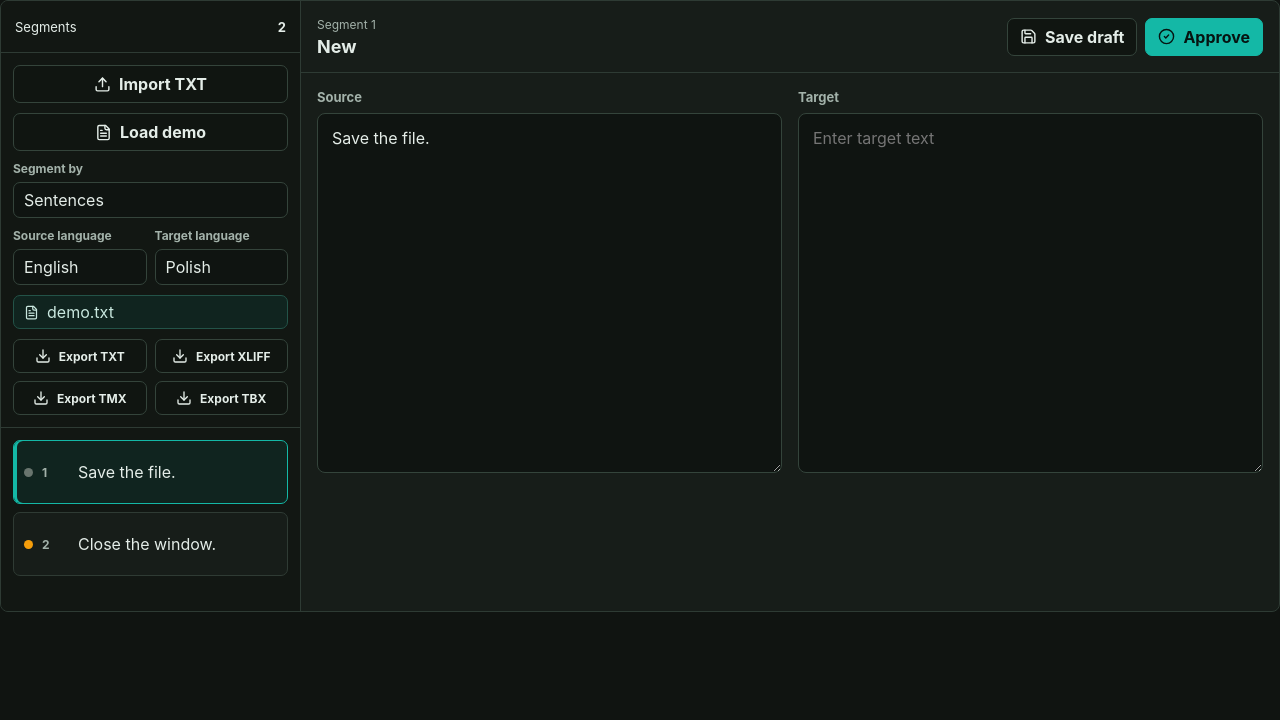
exports TXT after persisting the active segment draft
Type "Zapisz plik." into the text box labelled "Target".
click(1030, 293); type("Zapisz plik.")  # box [798, 113, 1263, 473]
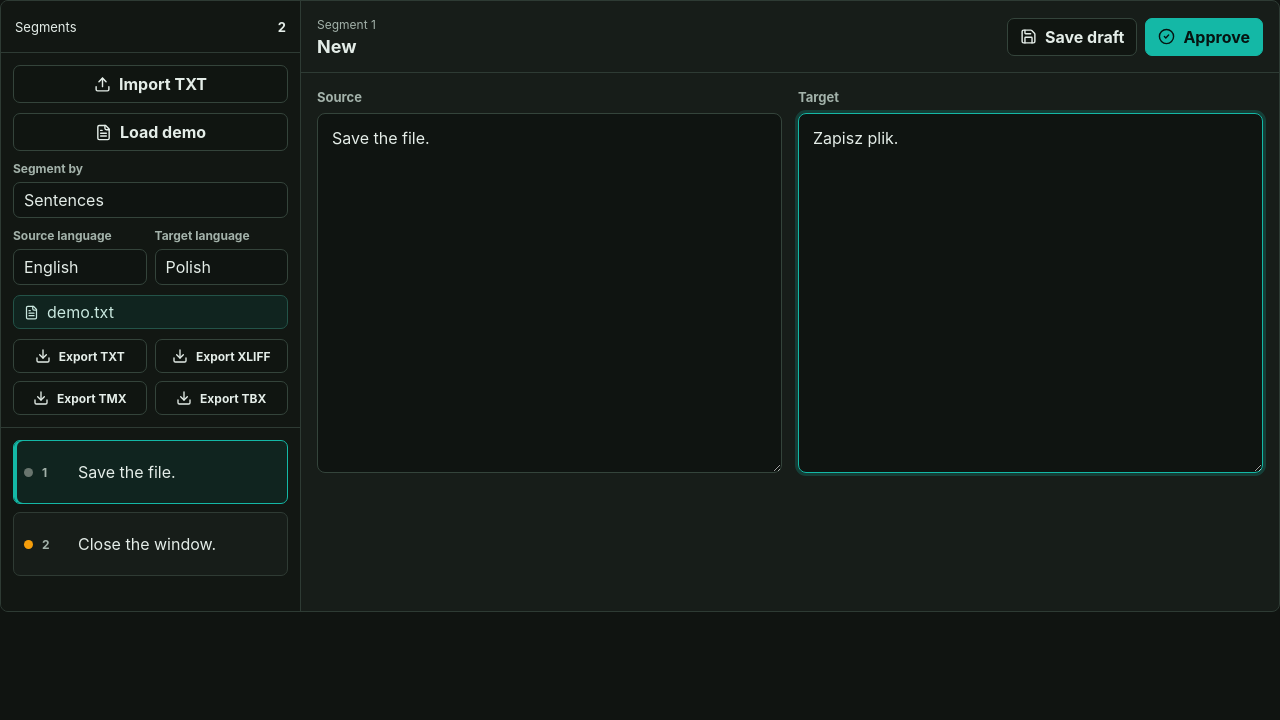
Click the button "Export TXT".
click(80, 356)  # box [13, 339, 146, 373]
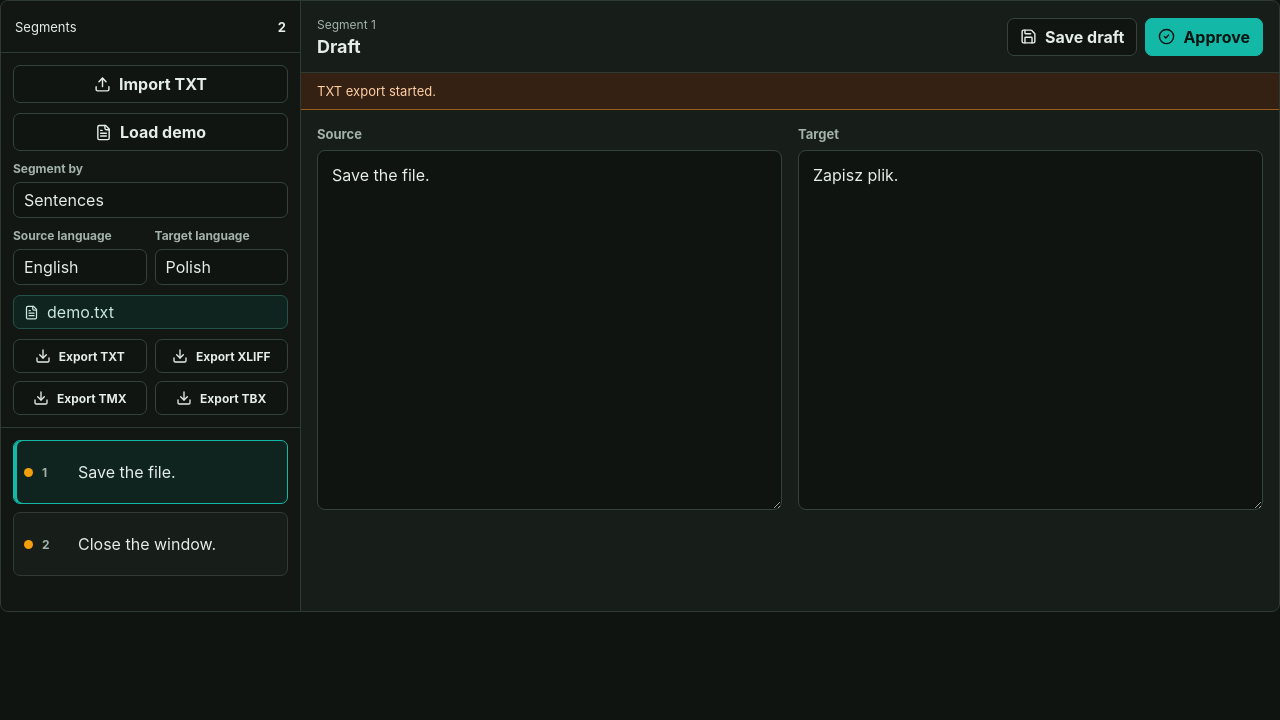
Result: the text "TXT export started." is shown at [301, 73, 1279, 110]
